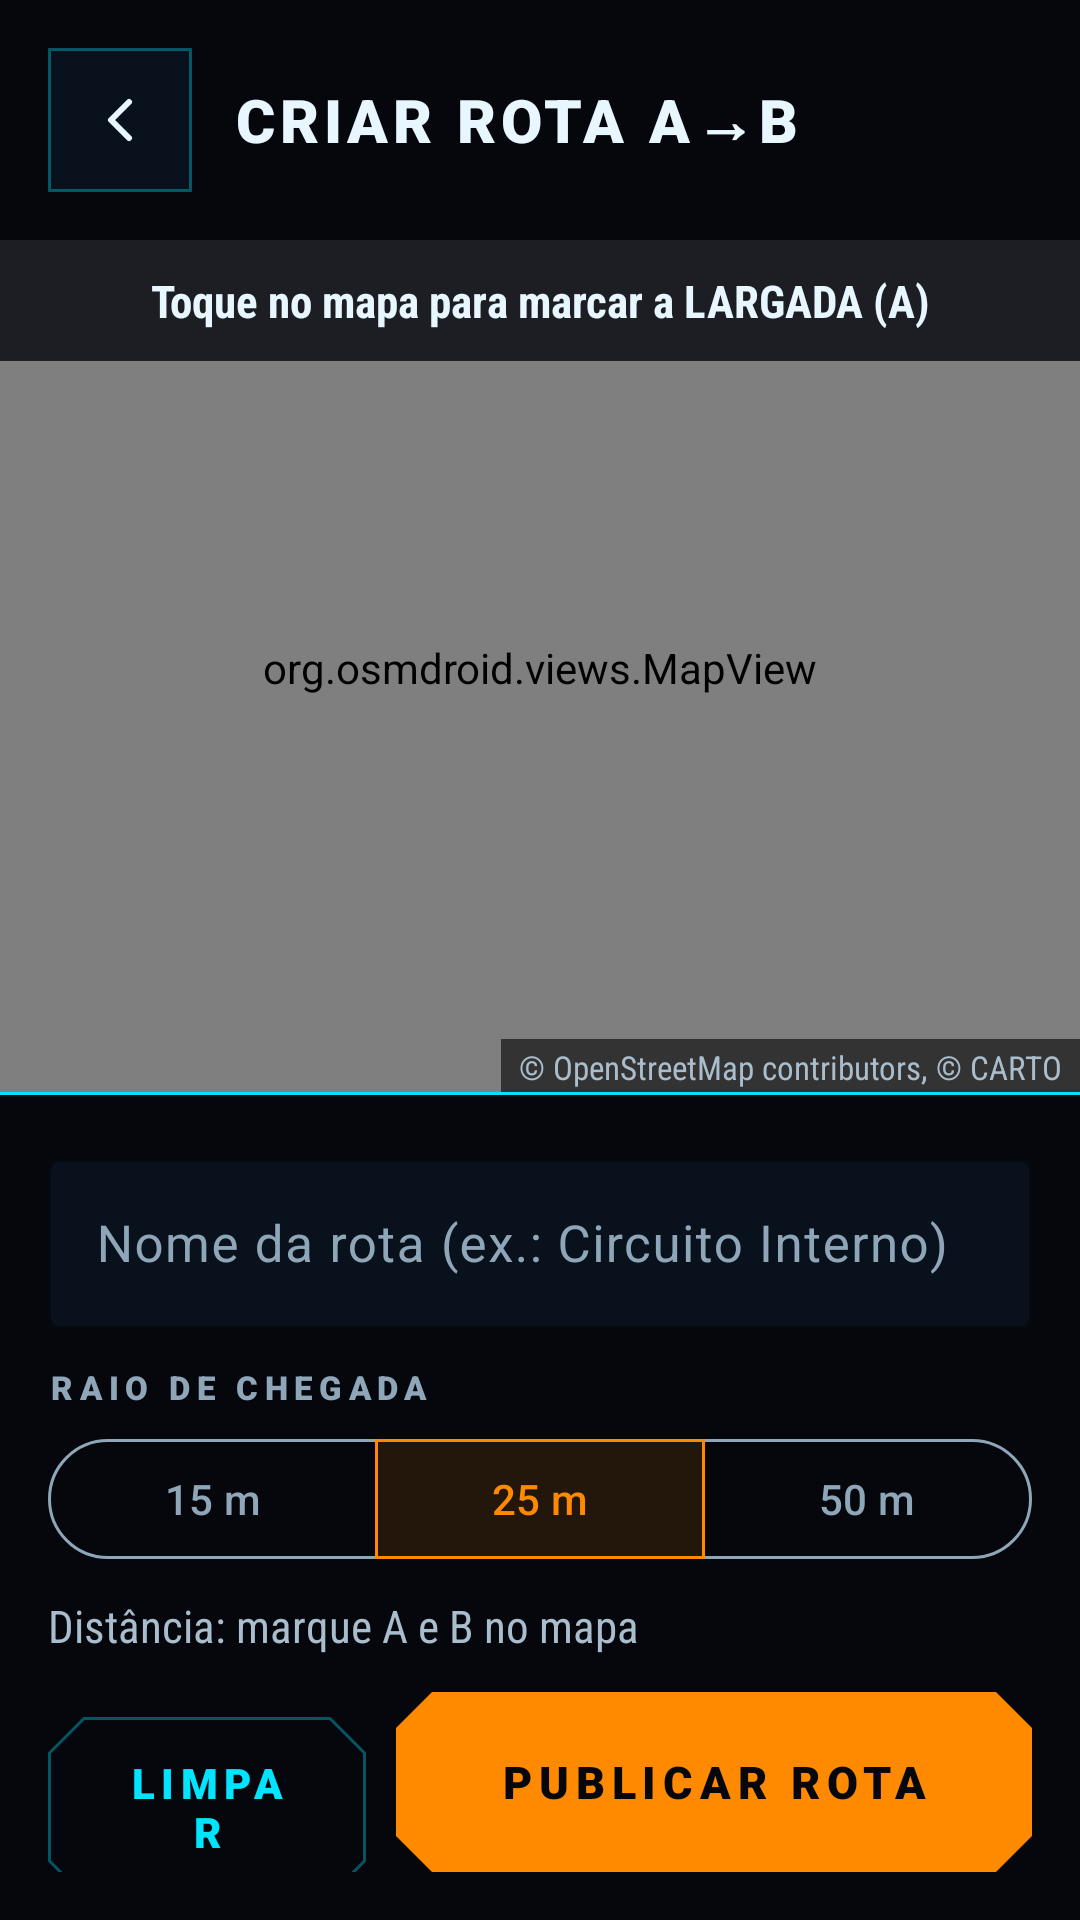

Screen size 1080 x 1920. Icon name, then its center in pixels as (x=x, y=y):
Voltar: (x=120, y=120)
